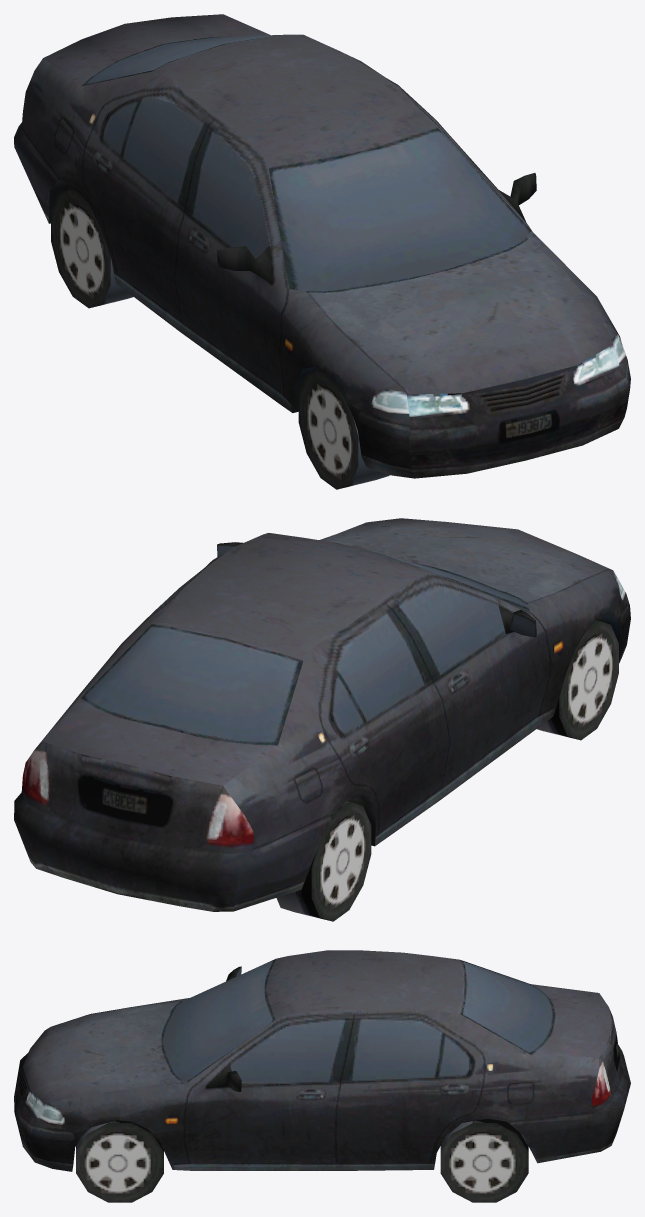
The model's file is Car 04.FBX.
3 views of the same model, one above another, from view 1: azimuth 30°, elevation 25°; view 2: azimuth 150°, elevation 25°; view 3: azimuth 270°, elevation 25° (orthographic). The views are drawn at different scales.
Visible parts, largest first — view 1: Car 04; view 2: Car 04; view 3: Car 04.
Boxes of the visible parts, x1,y1,x2,y2 form: Car 04: [14, 14, 630, 489]; Car 04: [14, 518, 630, 921]; Car 04: [14, 950, 630, 1202].
Size of the model in its own units: 24.56 by 17.88 by 56.05.
